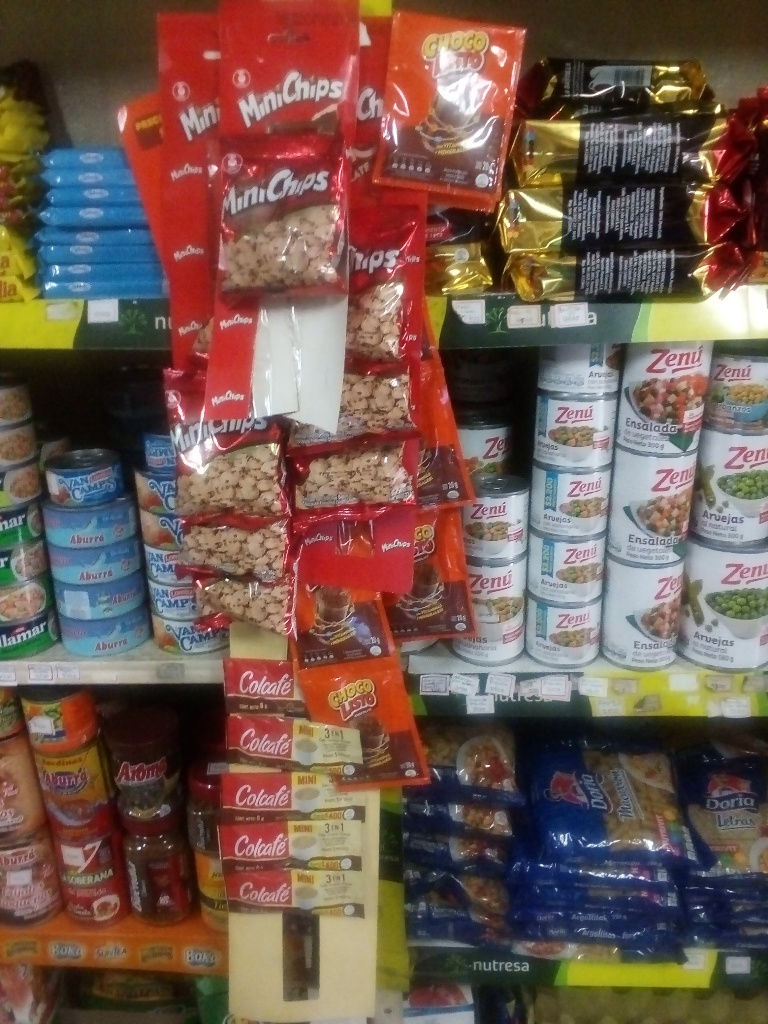COL0170103SOB02000: (369, 5, 514, 194)
